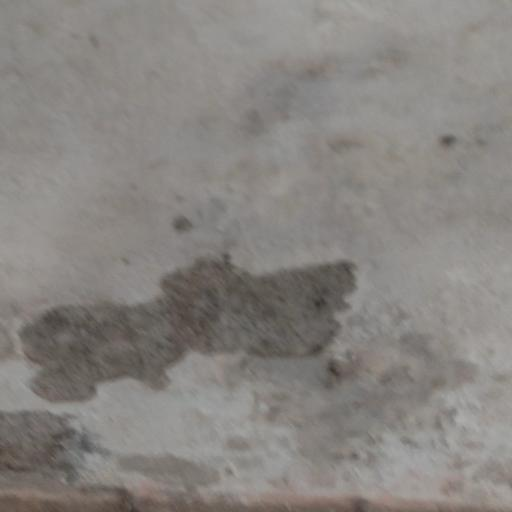peeling: (2, 234, 370, 404), (0, 390, 256, 511)
